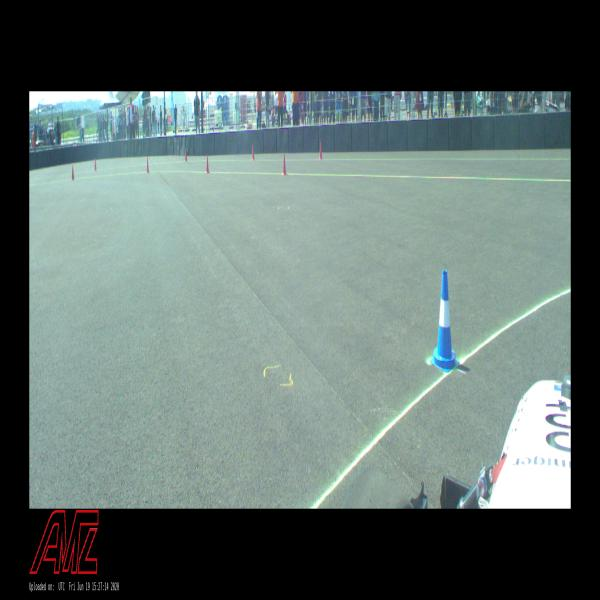blue_cone: (430, 271, 459, 372)
unknown_cone: (205, 155, 210, 174), (282, 156, 286, 175), (72, 166, 75, 180), (94, 159, 97, 170), (252, 145, 254, 160), (320, 144, 322, 159), (147, 159, 149, 173), (185, 149, 187, 161)
